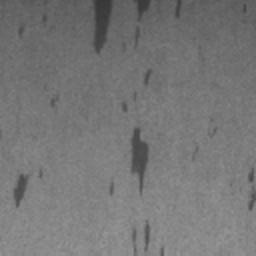Red iron sheet: (109, 69, 154, 196), (92, 0, 184, 55), (14, 166, 45, 207), (131, 220, 165, 256), (17, 13, 49, 40), (247, 168, 256, 211), (50, 92, 60, 111), (192, 146, 200, 161), (241, 4, 248, 14)
